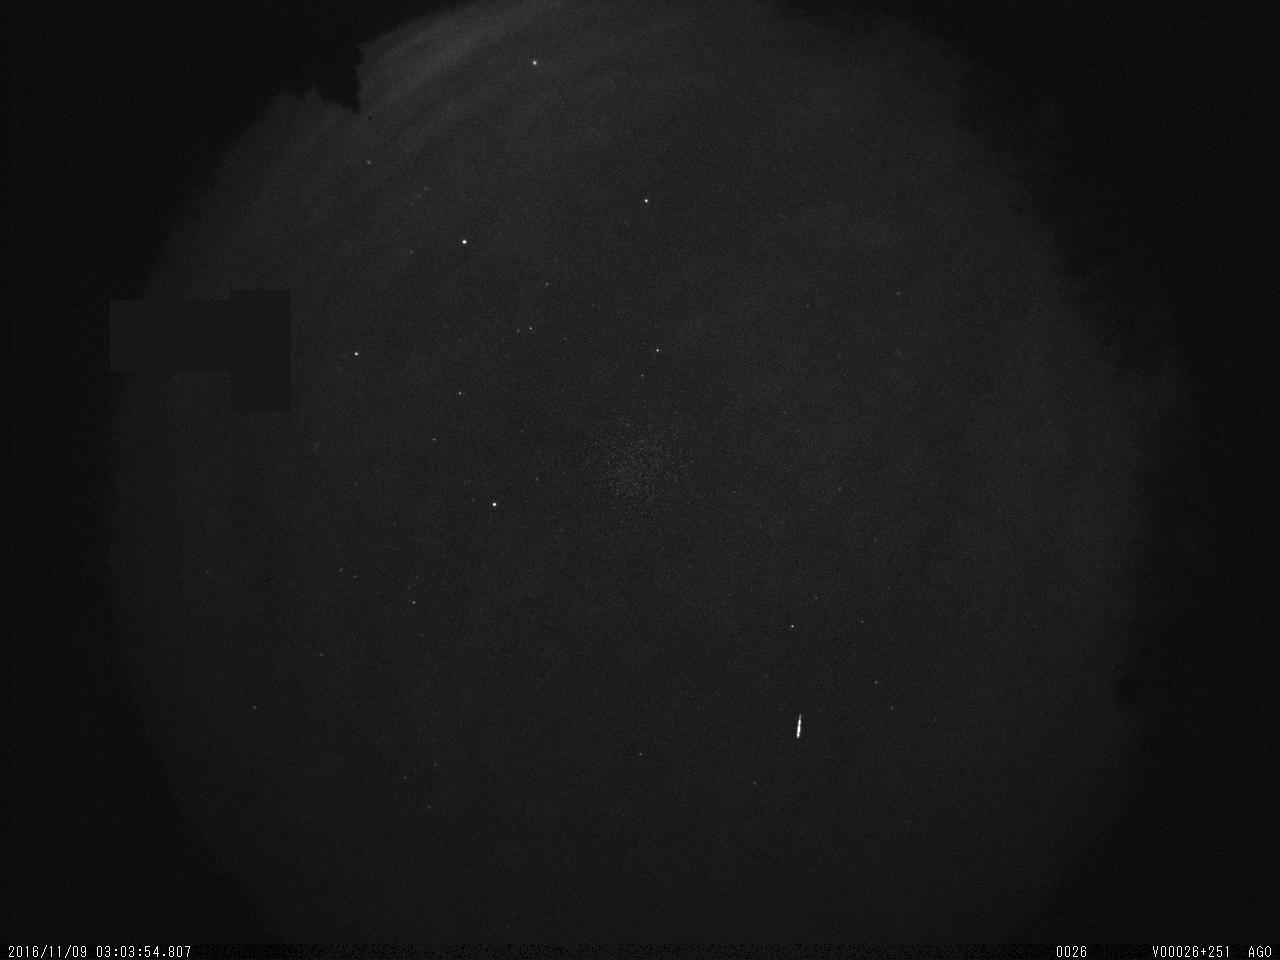meteor: (772, 698, 817, 756)
